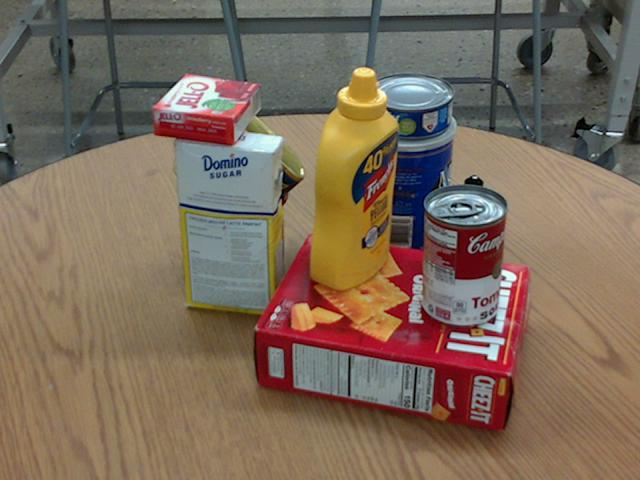cracker_box: (257, 233, 530, 430)
gelatin_box: (152, 73, 260, 143)
large_marker: (455, 175, 482, 287)
master_chef_can: (352, 100, 458, 264)
mug: (194, 169, 287, 277)
mustard_bottle: (309, 66, 397, 290)
potted_meat_can: (174, 104, 305, 233)
sugar_box: (173, 125, 283, 317)
tomato_soup_can: (421, 183, 508, 327)
tuna_fish_can: (368, 73, 454, 137)
